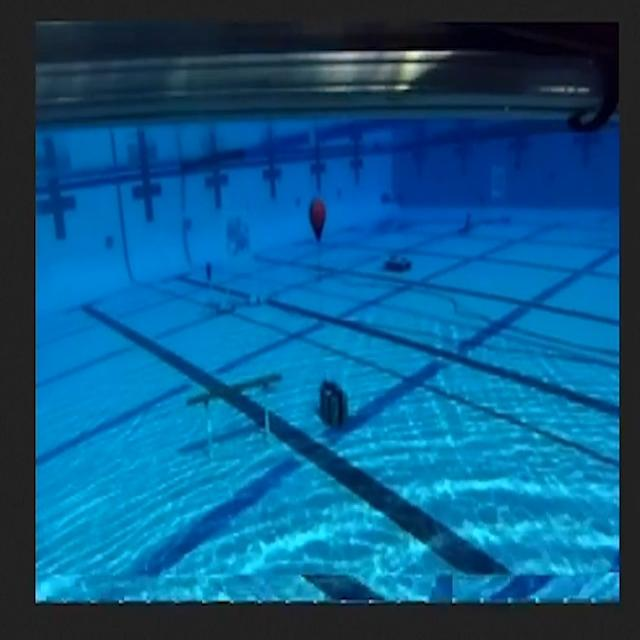Buoy: (300, 188, 340, 260)
Path: (184, 358, 287, 470)
